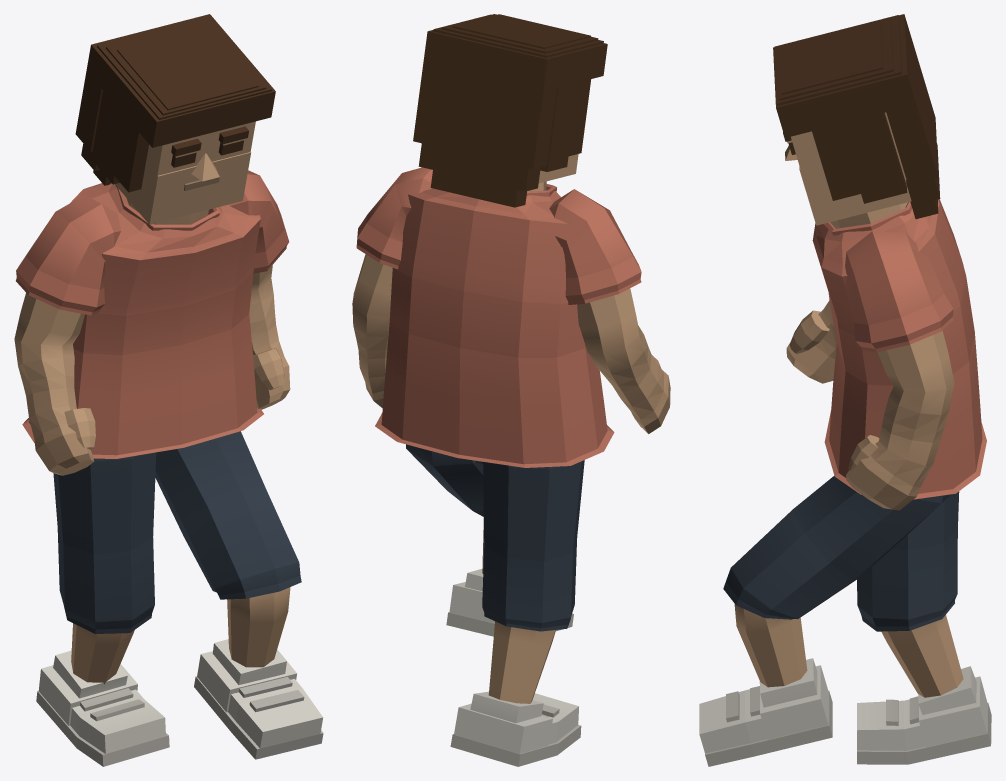
Rendered from neighborhood-child-8cc5ac__walk7.glb.
3 renders of one model, left to right at view 1: azimuth 30°, elevation 25°; view 2: azimuth 150°, elevation 25°; view 3: azimuth 270°, elevation 25°, orthographic. The views are drawn at different scales.
Parts seen in each view (by area): view 1: neighborhood-child-8cc5ac__walk7; view 2: neighborhood-child-8cc5ac__walk7; view 3: neighborhood-child-8cc5ac__walk7.
Boxes of the visible parts, x1,y1,x2,y2 form: neighborhood-child-8cc5ac__walk7: [14, 14, 323, 766]; neighborhood-child-8cc5ac__walk7: [352, 14, 670, 766]; neighborhood-child-8cc5ac__walk7: [699, 14, 991, 766].
Size of the model in its own units: 0.486 by 1.19 by 0.4319.
